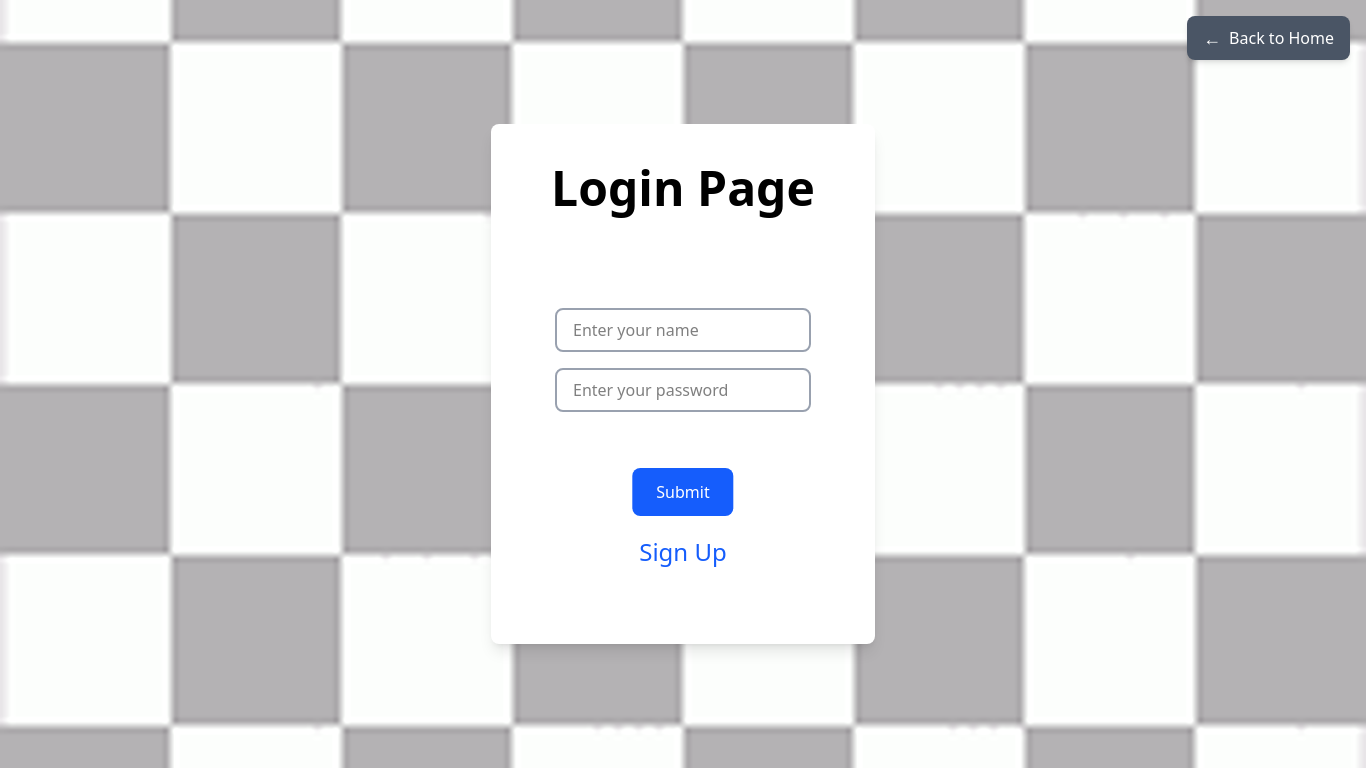
Test: Login API interaction › shows API error when login fails
In the field with placeholder "Enter your name": (683, 330) x1=555 y1=308 x2=811 y2=352, type "baduser"
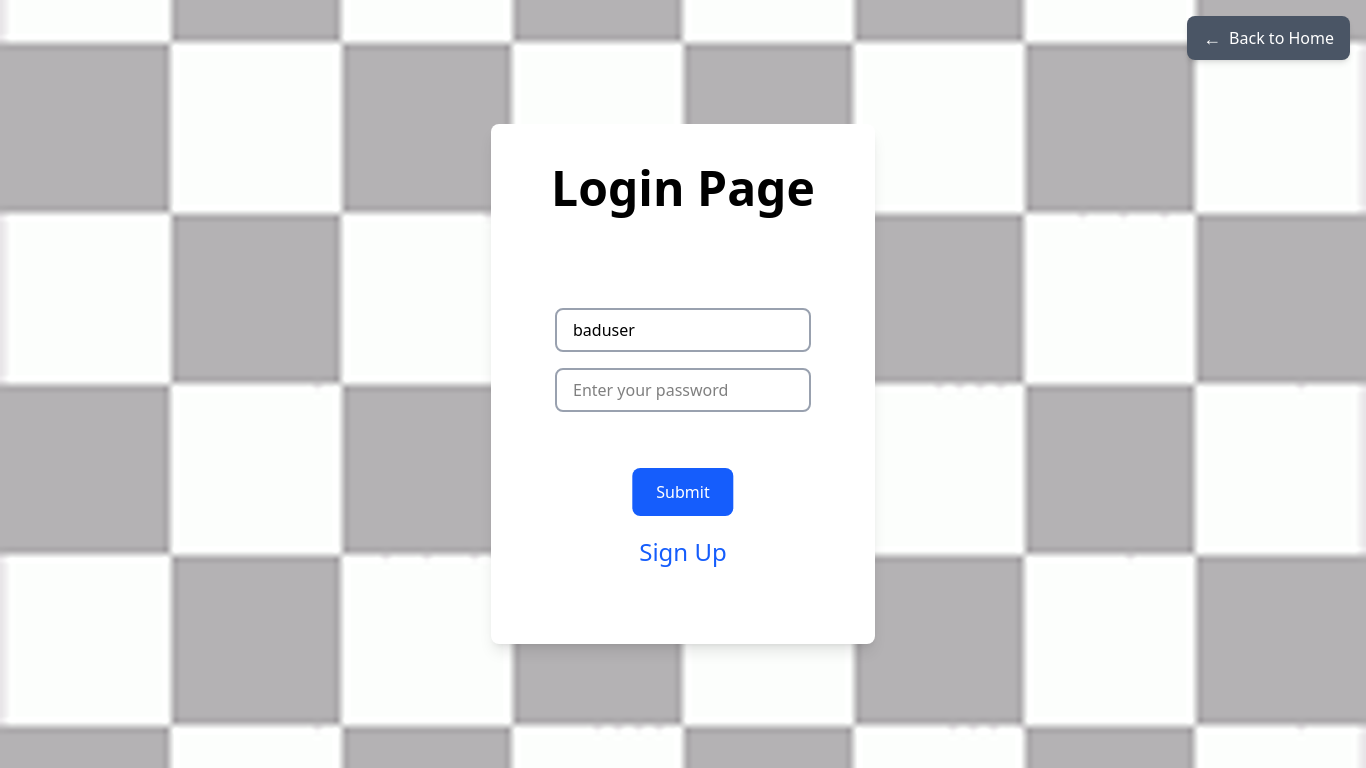
In the password field with placeholder "Enter your password": (683, 390) x1=555 y1=368 x2=811 y2=412, type "badpass"
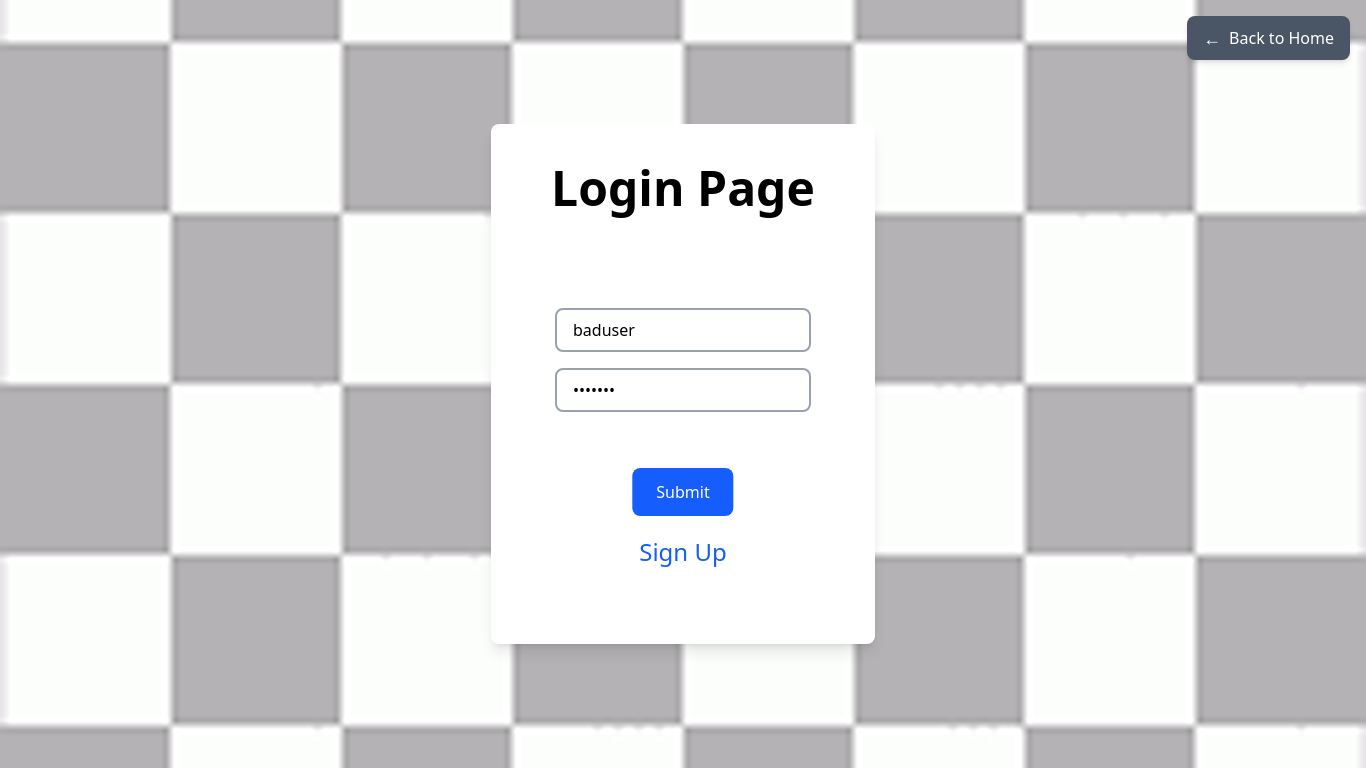
Click the button "Submit": click(683, 492) x1=632 y1=468 x2=734 y2=516
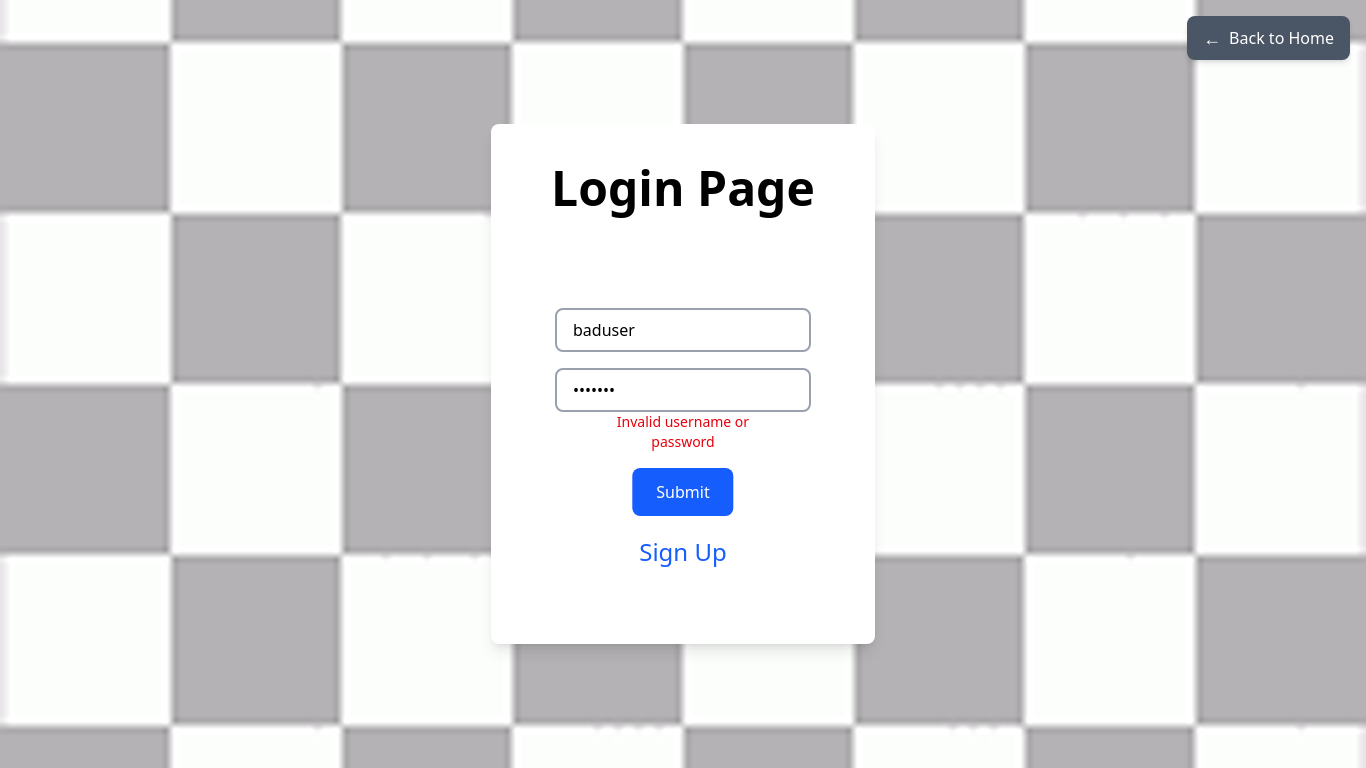
Now the text "Invalid username or password" is shown, box x1=617 y1=412 x2=749 y2=451
